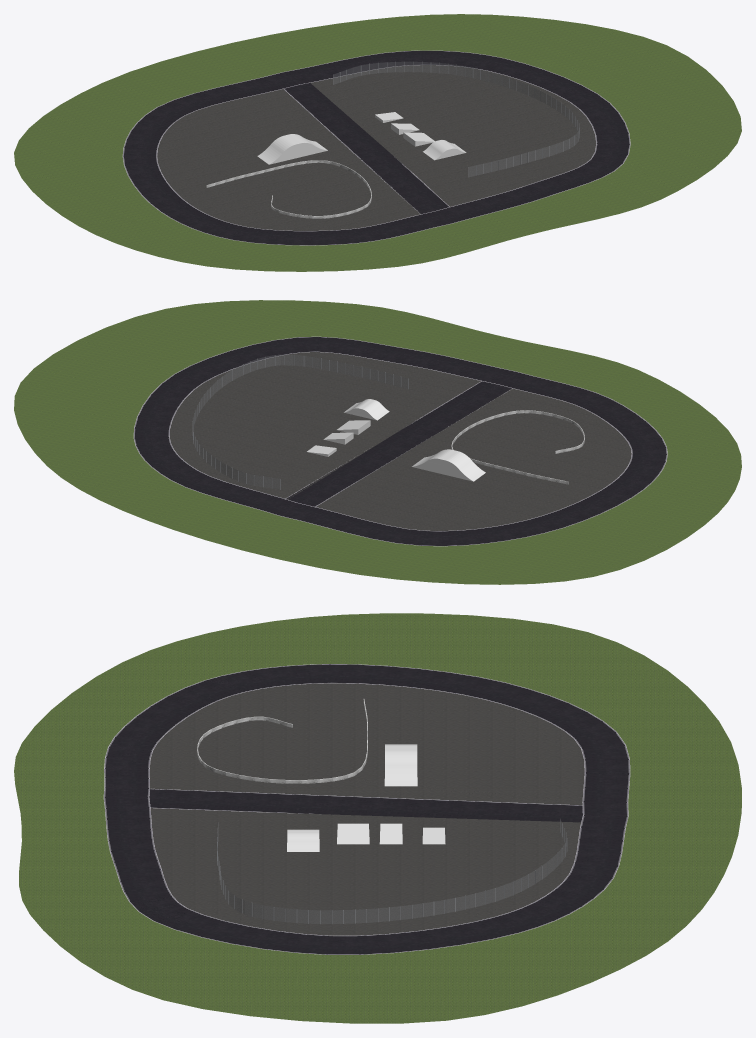
Rendered from testtrack.glb.
3 renders of one model, top to bottom at view 1: azimuth 30°, elevation 25°; view 2: azimuth 150°, elevation 25°; view 3: azimuth 270°, elevation 25°, orthographic. The views are drawn at different scales.
Visible parts, largest first — view 1: Grass_mesh, Asphalt_mesh, Road_mesh, Fence_mesh, Cube.006, SafeBarrier_mesh, Cube.004; view 2: Grass_mesh, Asphalt_mesh, Road_mesh, Fence_mesh, Cube.006, SafeBarrier_mesh, Cube.004; view 3: Grass_mesh, Asphalt_mesh, Road_mesh, Fence_mesh, Cube.006, SafeBarrier_mesh, Cube.004, Cube.003.
Boxes of the visible parts, x1,y1,x2,y2 form: Grass_mesh: (14,14,741,271); Asphalt_mesh: (157,65,596,230); Road_mesh: (122,50,630,245); Fence_mesh: (333,61,579,177); Cube.006: (257,134,327,164); SafeBarrier_mesh: (206,160,371,218); Cube.004: (423,140,466,160); Grass_mesh: (14,300,741,584); Asphalt_mesh: (169,352,631,530); Road_mesh: (133,336,667,546); Fence_mesh: (192,354,408,489); Cube.006: (412,449,485,481); SafeBarrier_mesh: (451,410,584,484); Cube.004: (344,399,389,420); Grass_mesh: (14,613,741,1023); Asphalt_mesh: (150,683,584,935); Road_mesh: (103,664,630,954); Fence_mesh: (217,819,567,924); Cube.006: (384,744,417,786); SafeBarrier_mesh: (197,699,367,783); Cube.004: (287,829,319,851); Cube.003: (337,823,369,844).
Size of the model in its own units: 255 by 9.74 by 191.
6 materials, 4 textured.
